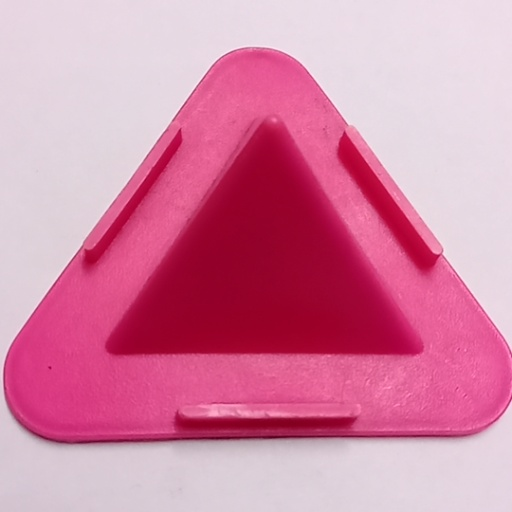pink_cone: (0, 25, 512, 450)
